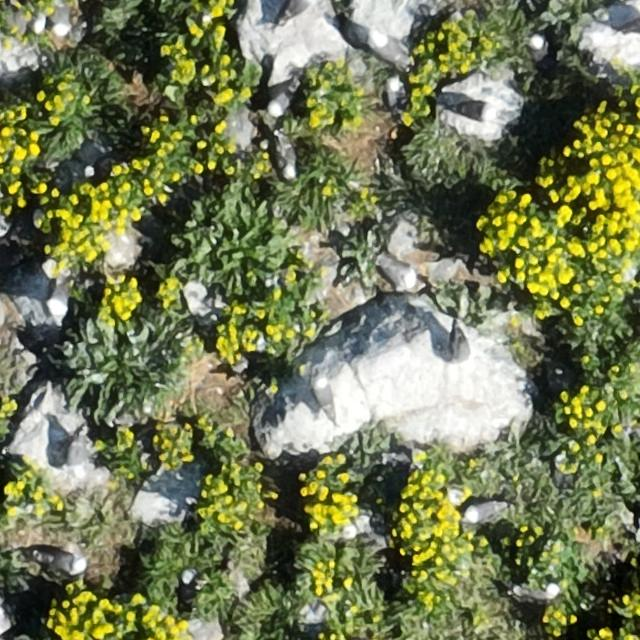umineko: (378, 256, 430, 292), (365, 28, 407, 66), (274, 1, 315, 31), (314, 377, 341, 422), (65, 428, 86, 482), (515, 578, 565, 600), (39, 552, 86, 573), (49, 274, 70, 318), (460, 101, 500, 124), (528, 35, 554, 69), (464, 502, 500, 523), (276, 139, 296, 176), (51, 3, 70, 38), (387, 78, 405, 110), (181, 569, 196, 595)
